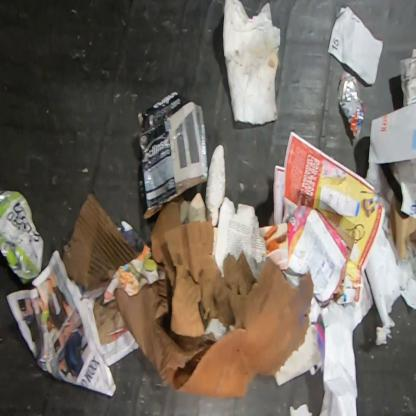cardboard: (165, 221, 257, 350), (137, 92, 207, 222), (61, 193, 141, 293)
metal: (0, 190, 45, 286), (337, 71, 367, 140)
